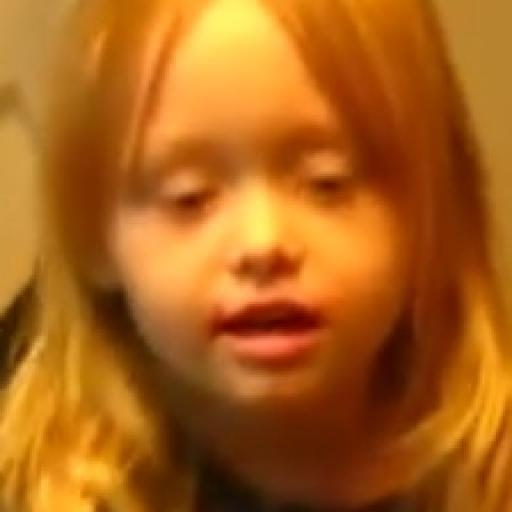Autism: (44, 0, 479, 470)
